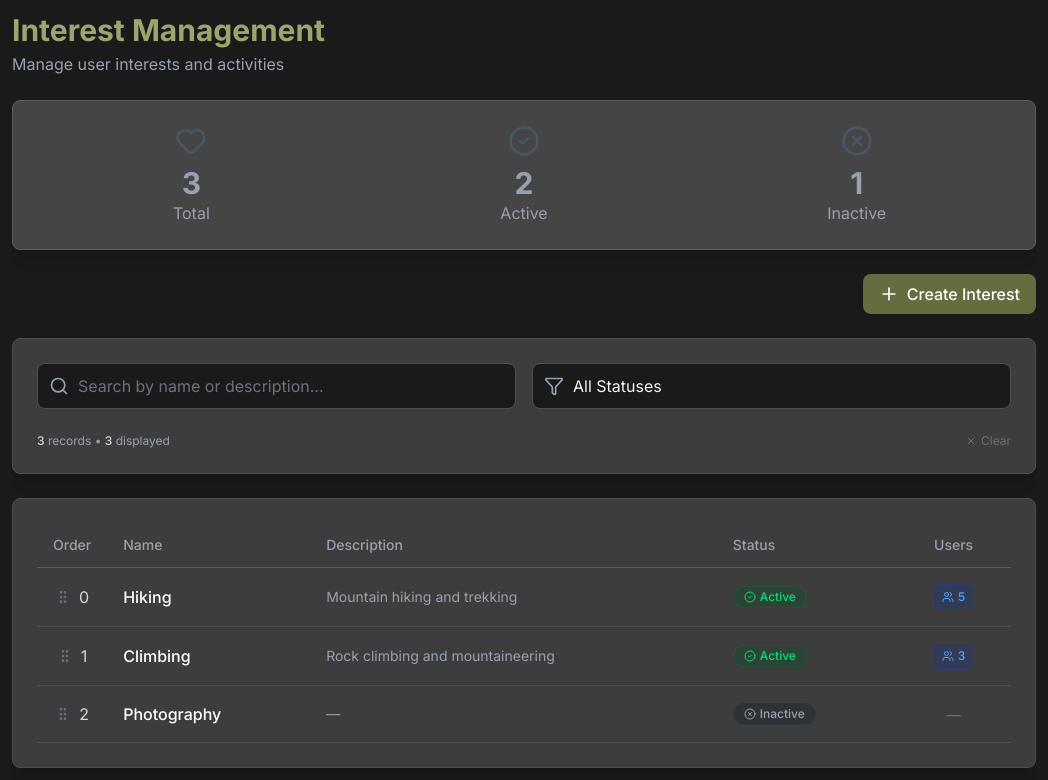
InterestManagement › Search Functionality › should filter by interest name
Expected: the text "Hiking" is shown, [123, 587, 172, 607]
Type "Hiking" into the field with placeholder "Search by name or description...".
click(276, 386); type("Hiking")  # box [37, 363, 516, 409]
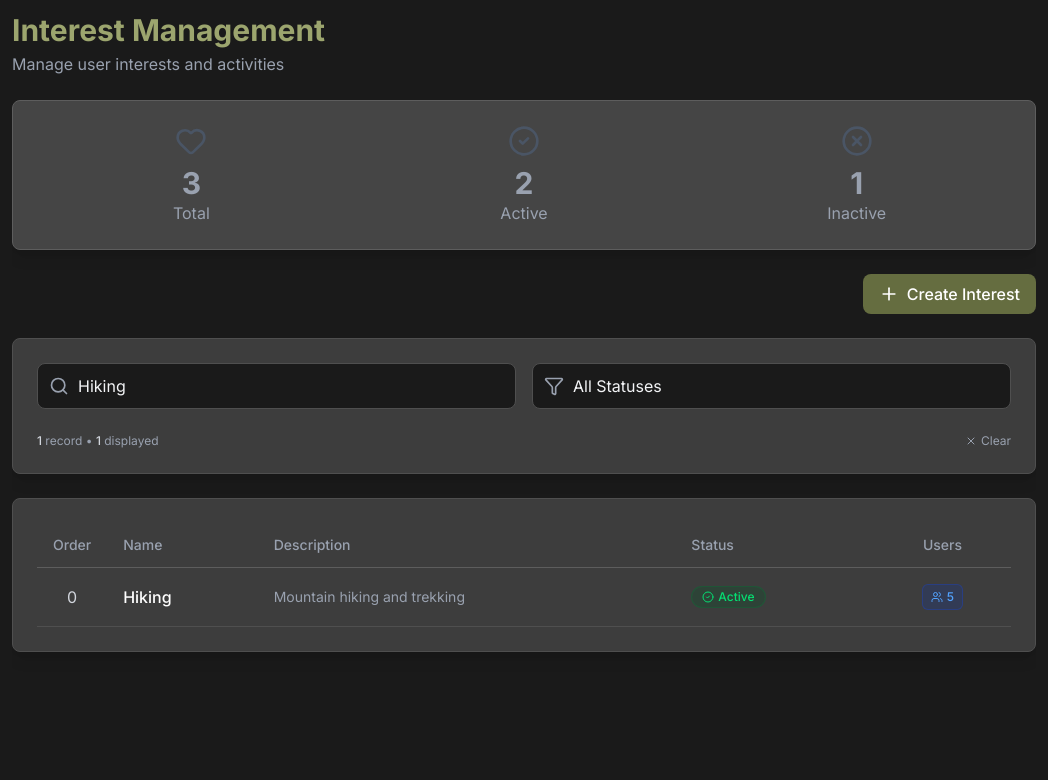
Expected: the text "Hiking" is shown, [123, 587, 172, 607]
Expected: the text "Climbing" is gone
